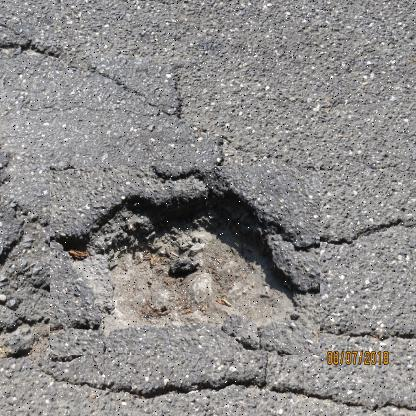pothole: (50, 166, 321, 356)
